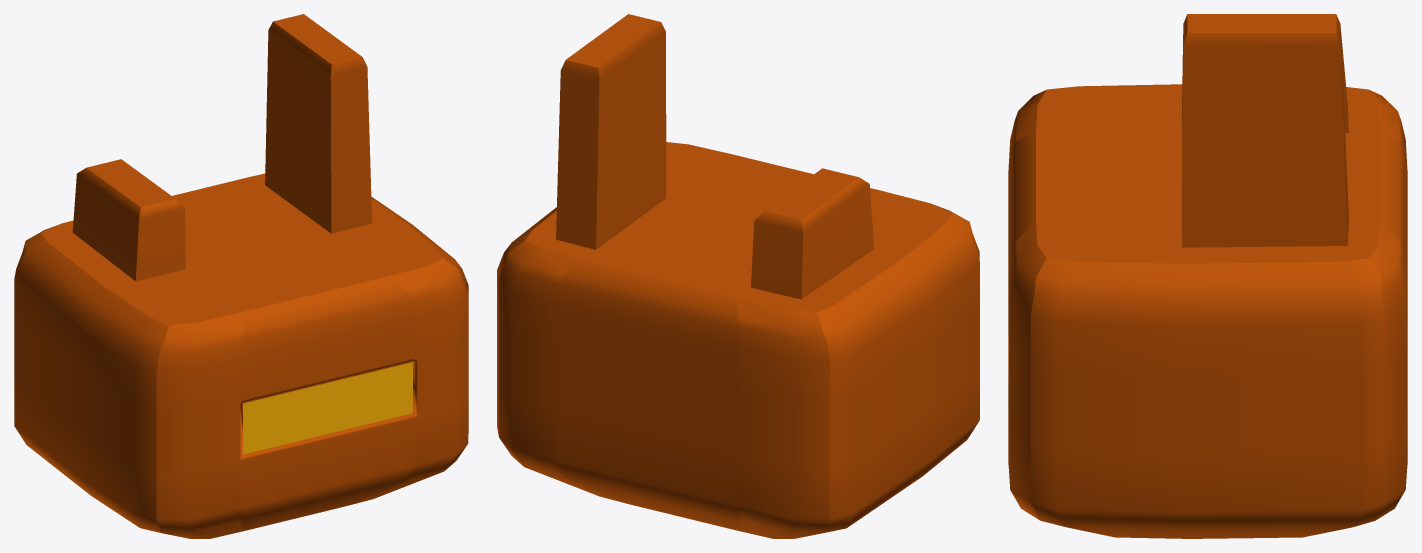
The model's file is evilBroskiHead.fbx.
The picture shows the model from 3 angles, left to right: view 1: azimuth 30°, elevation 25°; view 2: azimuth 150°, elevation 25°; view 3: azimuth 270°, elevation 25°; orthographic projection. The views are drawn at different scales.
Parts seen in each view (by area): view 1: evilBroskiHead, evilBroskiEyes; view 2: evilBroskiHead; view 3: evilBroskiHead.
Boxes of the visible parts, <box> form: evilBroskiHead: <box>14,14,468,538</box>; evilBroskiEyes: <box>243,362,412,454</box>; evilBroskiHead: <box>497,14,979,538</box>; evilBroskiHead: <box>1008,14,1407,538</box>.
Size of the model in its own units: 22.33 by 25.32 by 17.94.
